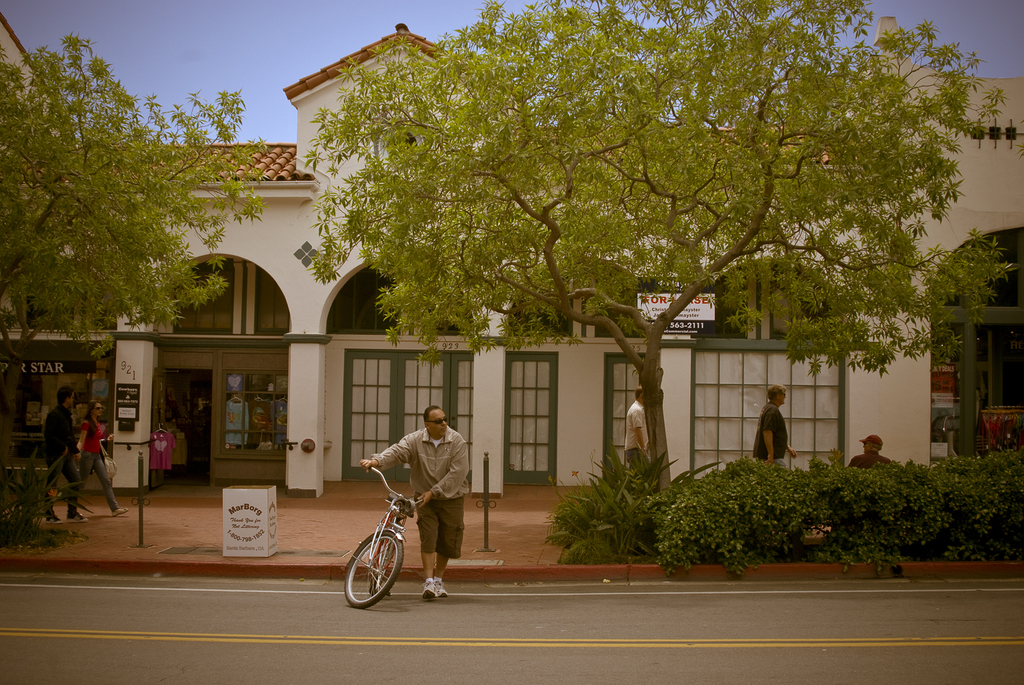Bike: (323, 456, 409, 617)
